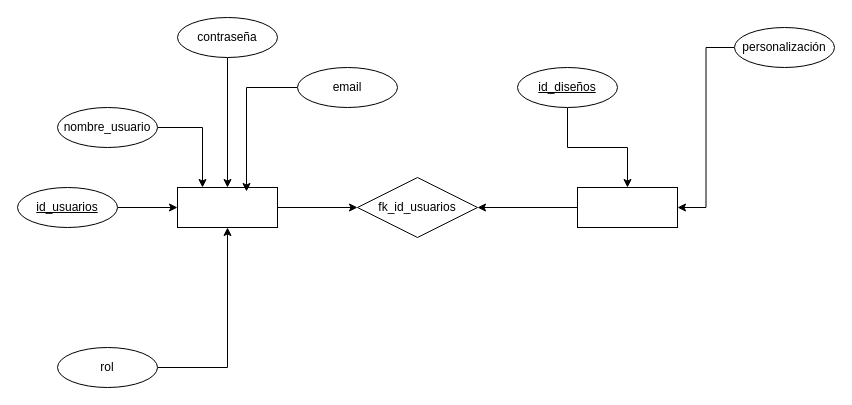
Image size: 852x405. Some labels were removed from this diagram. The centre of each missing label's shape, as x and y in pixels:
"DISEÑOS" goes at (627,207).
"USUARIOS" goes at (227,207).
